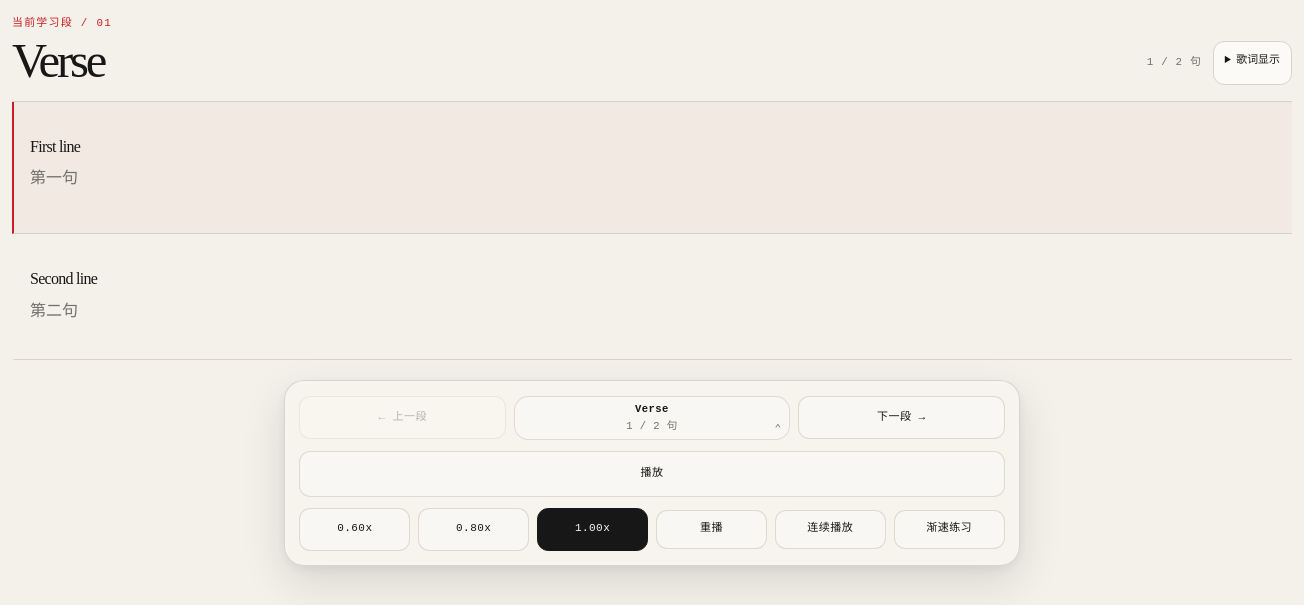
Scenario: PracticeWorkspace 1.0 › keeps previous and next slots stable at the practice boundaries
This screenshot has width=1304, height=605.
Expected: the button "← 上一段" is disabled, [299,396,506,439]
Click the button "下一段 →" at (901, 418), box [798,396,1005,439]
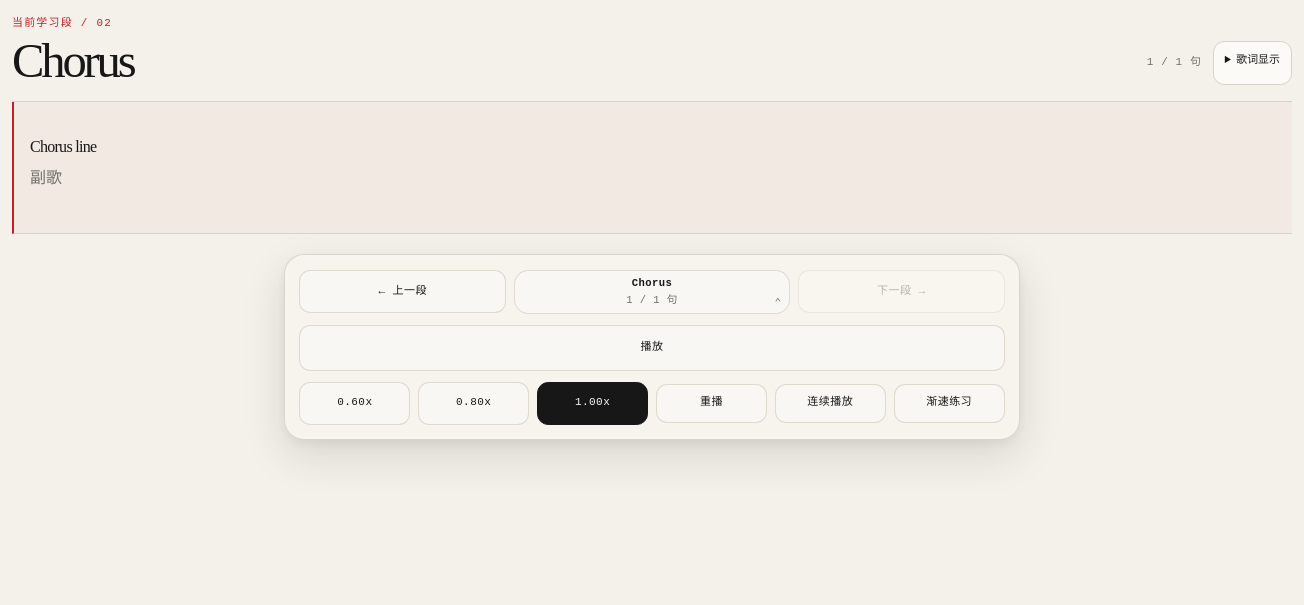
Expected: the heading "Chorus" is shown, [12,38,134,85]
Expected: the button "← 上一段" is enabled, [299,270,506,313]
Expected: the button "下一段 →" is disabled, [798,270,1005,313]
